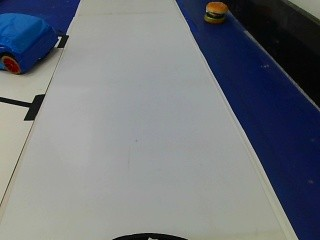burger: (199, 1, 233, 31)
